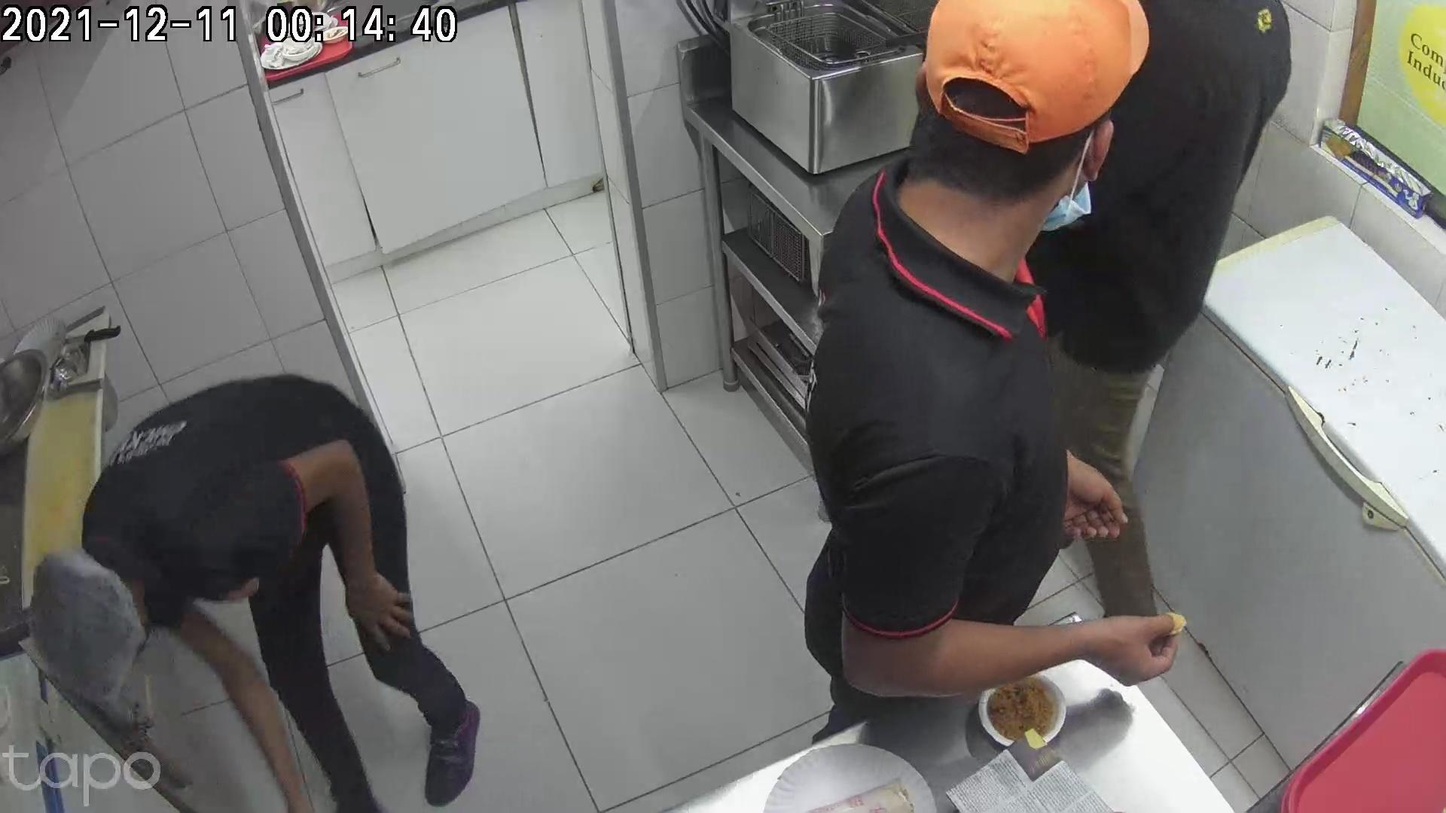no_gloves: (827, 607, 957, 758)
